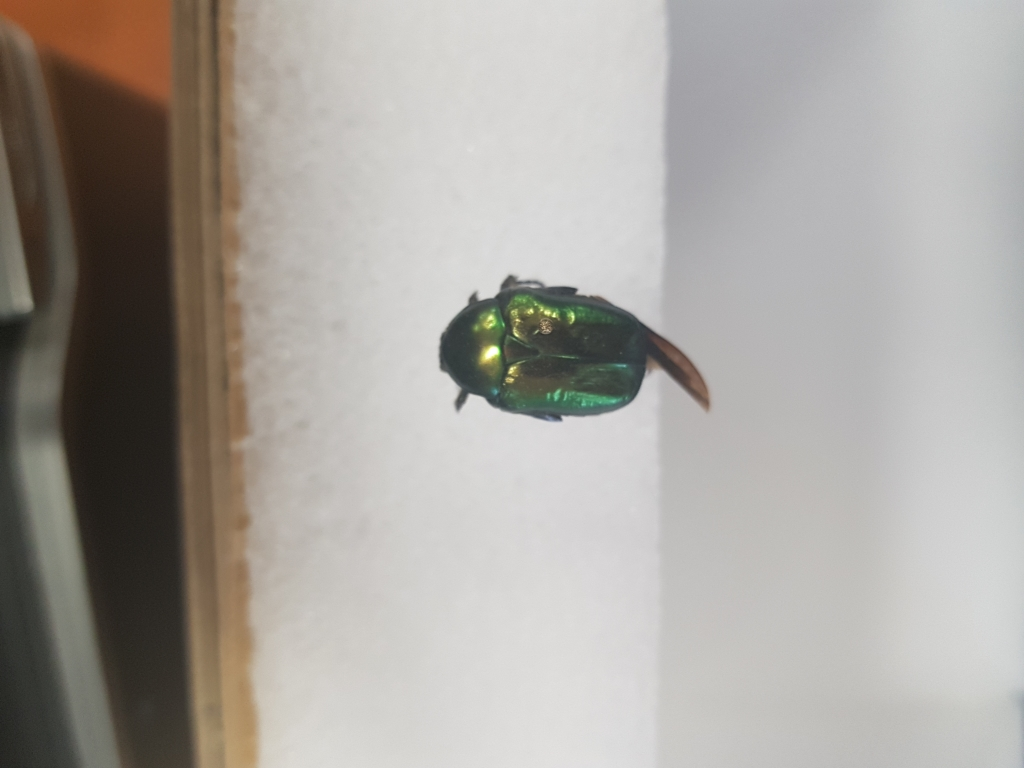Protaetia_angustata_angustata: (436, 272, 732, 438)
